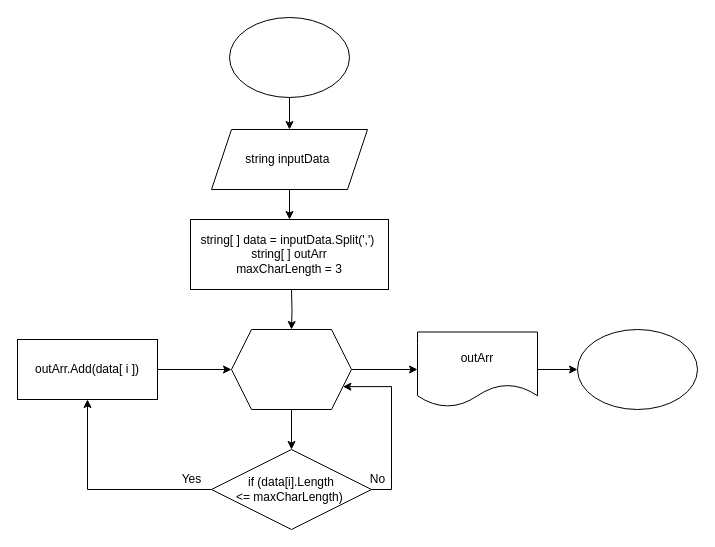
This 715x547 diagram has some shape labels left out. The centre of each missing label's shape, as x and y in pixels:
finish: point 637,369
for (int i = 0; i < data.Length; i++): point 291,369
start: point 289,57
